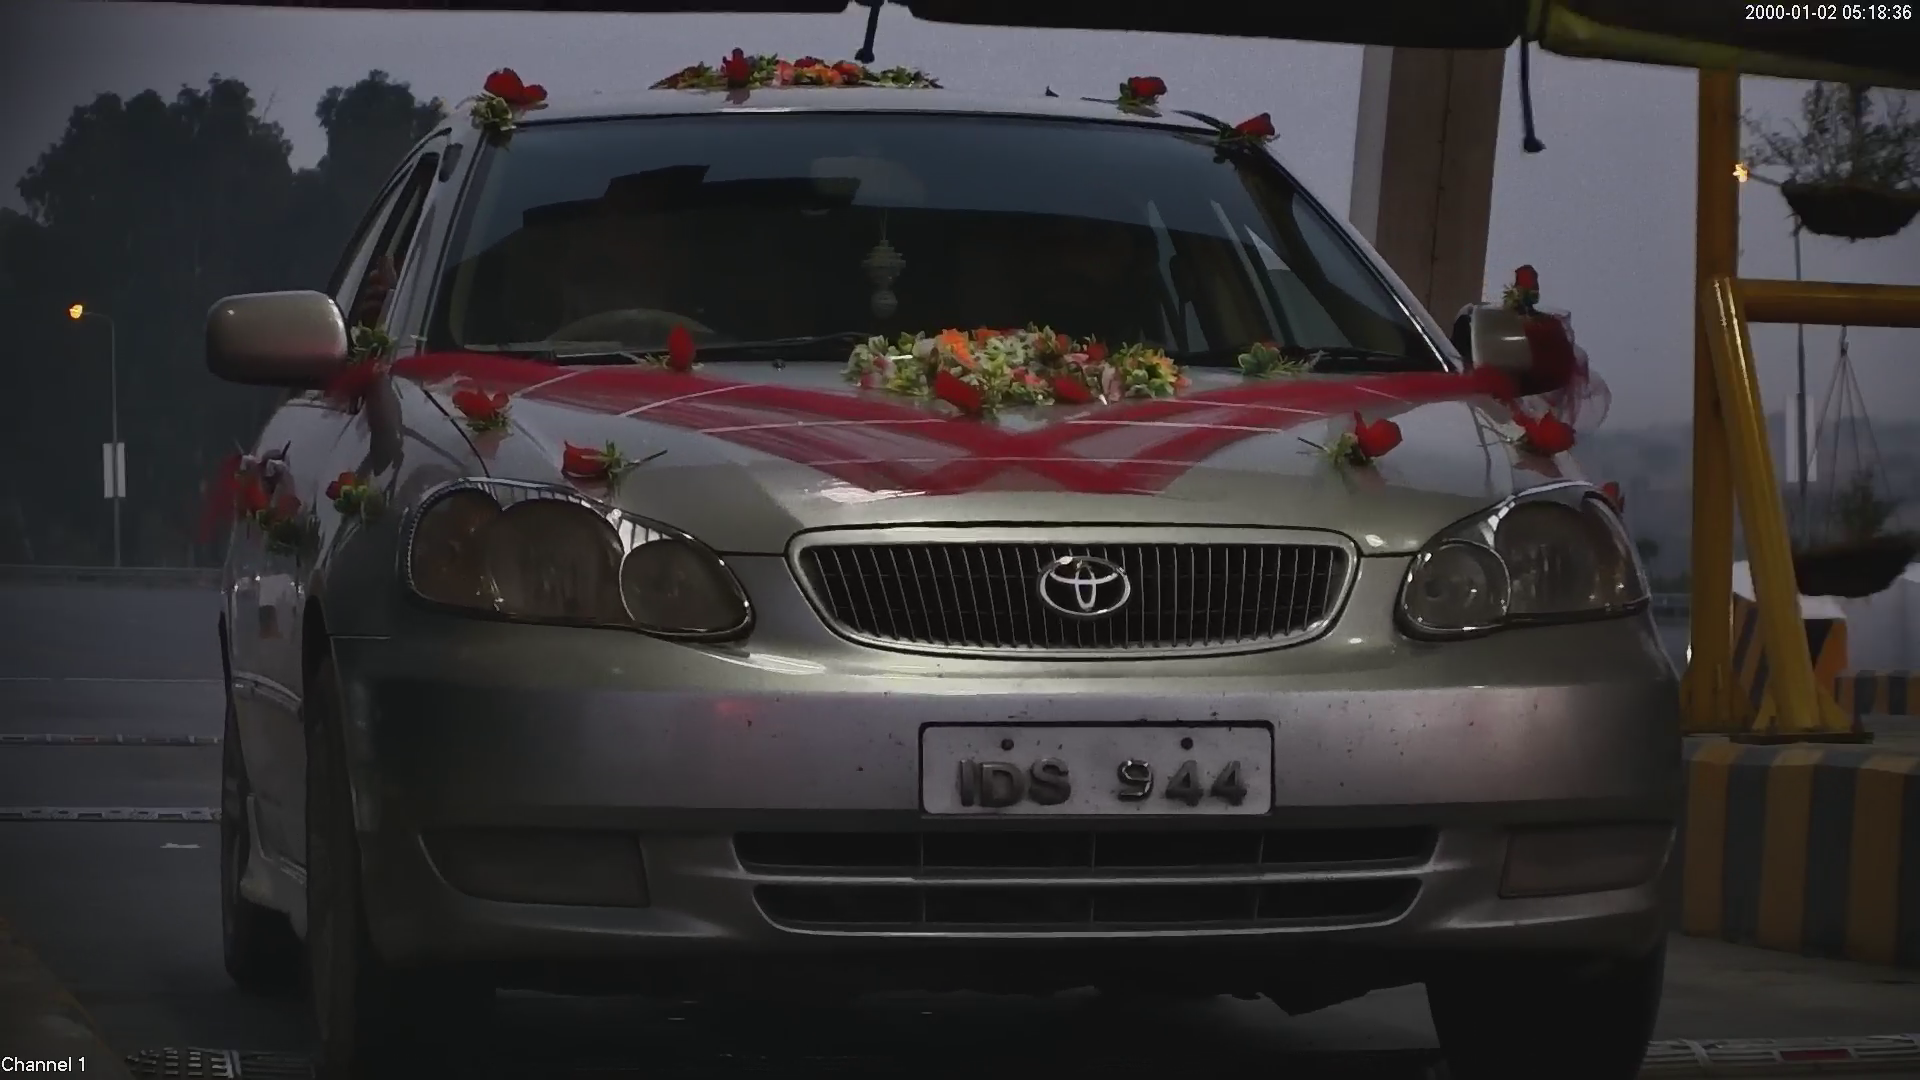Number_Plate: (910, 709, 1287, 835)
